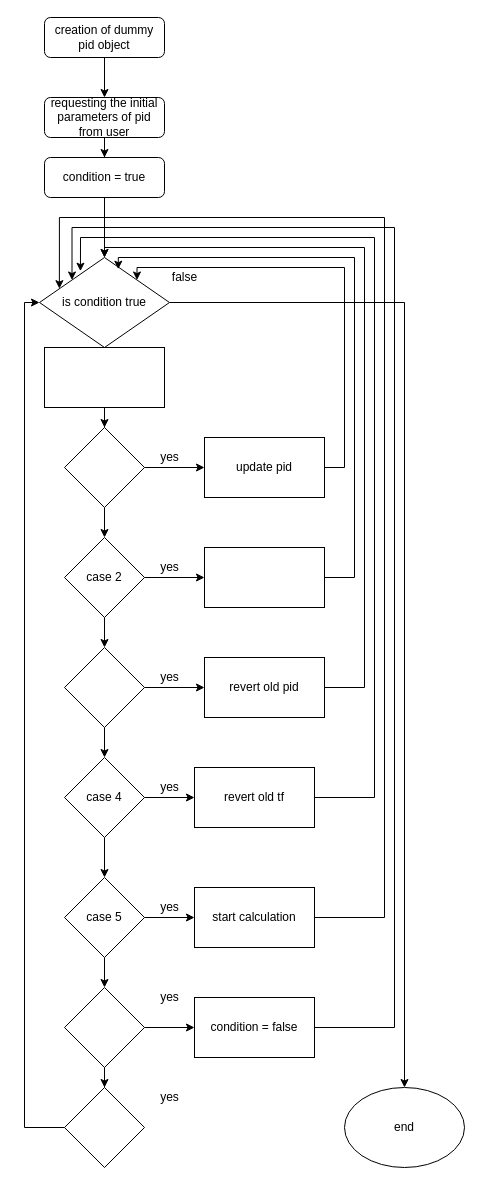
Some shapes in this 482 by 1185 pixel diagram are drawn without their labels. Here are the shapes that lost their labels. From the top down, the box of each, then its label:
(44, 346, 164, 408): switch
(64, 426, 144, 508): case 1
(204, 546, 324, 608): updatetf
(64, 646, 144, 728): case 3
(64, 986, 144, 1068): case 6
(64, 1086, 144, 1168): default
